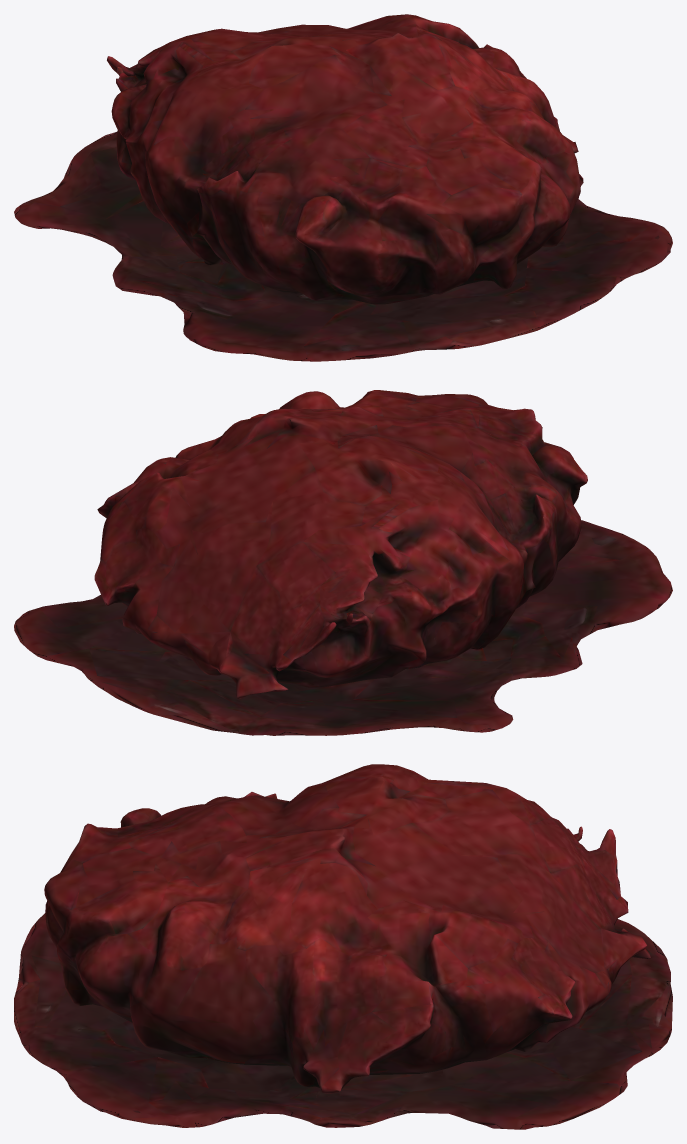
File: giblet1.glb
3 views of the same model, one above another, from view 1: azimuth 30°, elevation 25°; view 2: azimuth 150°, elevation 25°; view 3: azimuth 270°, elevation 25° (orthographic). The views are drawn at different scales.
Visible parts, largest first — view 1: Mesh_0; view 2: Mesh_0; view 3: Mesh_0.
Part boxes in pixels (x1,y1,x2,y2): Mesh_0: (14, 14, 672, 361); Mesh_0: (14, 390, 672, 735); Mesh_0: (14, 764, 672, 1129).
Size of the model in its own units: 1.74 by 0.6528 by 1.9.
1 material, 1 textured.
